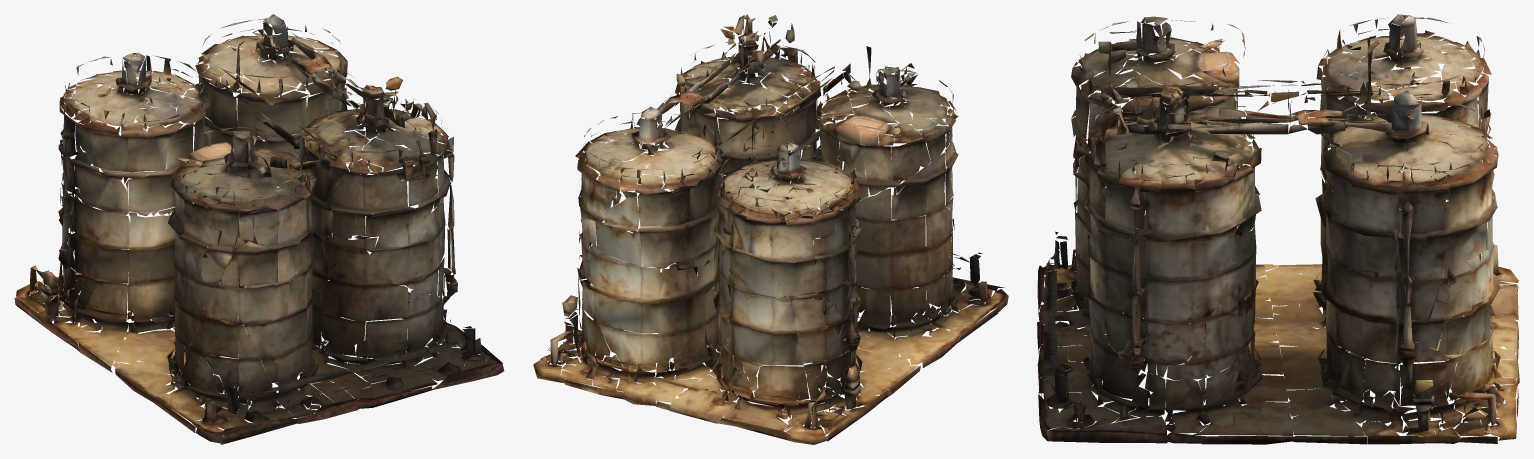
File: fuel_tanks.glb
3 renders of one model, left to right at view 1: azimuth 30°, elevation 25°; view 2: azimuth 150°, elevation 25°; view 3: azimuth 270°, elevation 25°, orthographic. The views are drawn at different scales.
Parts seen in each view (by area): view 1: tripo_node_f1e78b98-e28f-4d1c-9b41-664319dcf40e; view 2: tripo_node_f1e78b98-e28f-4d1c-9b41-664319dcf40e; view 3: tripo_node_f1e78b98-e28f-4d1c-9b41-664319dcf40e.
Boxes of the visible parts, bbox=[...] form: tripo_node_f1e78b98-e28f-4d1c-9b41-664319dcf40e: bbox=[14, 14, 504, 444]; tripo_node_f1e78b98-e28f-4d1c-9b41-664319dcf40e: bbox=[533, 14, 1008, 444]; tripo_node_f1e78b98-e28f-4d1c-9b41-664319dcf40e: bbox=[1037, 14, 1519, 444].
Bounding box in the file's own units: 0.8467 × 0.7205 × 0.9985.
Materials: 1 (1 with a texture image).
